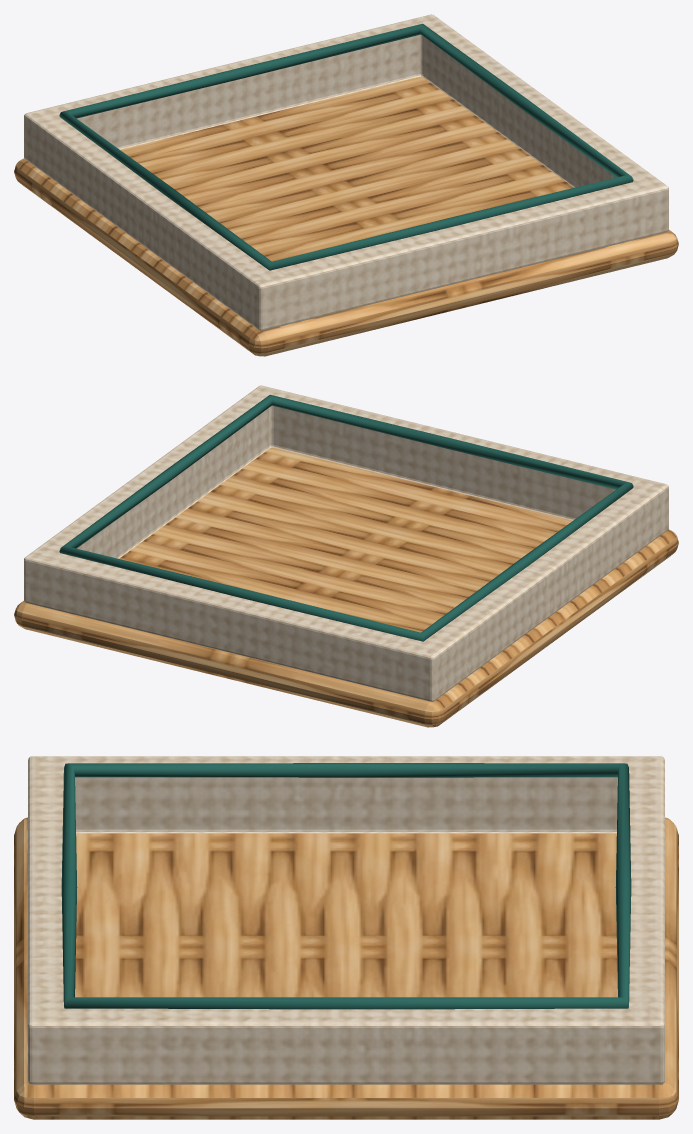
The model's file is socket_square.glb.
3 views of the same model, one above another, from view 1: azimuth 30°, elevation 25°; view 2: azimuth 150°, elevation 25°; view 3: azimuth 270°, elevation 25° (orthographic). The views are drawn at different scales.
Visible parts, largest first — view 1: socket_square; view 2: socket_square; view 3: socket_square.
Boxes of the visible parts, x1,y1,x2,y2 form: socket_square: [14, 14, 678, 356]; socket_square: [14, 385, 678, 727]; socket_square: [14, 756, 678, 1119].
Bounding box in the file's own units: 0.6 × 0.105 × 0.6.
Materials: 3 (2 with a texture image).
